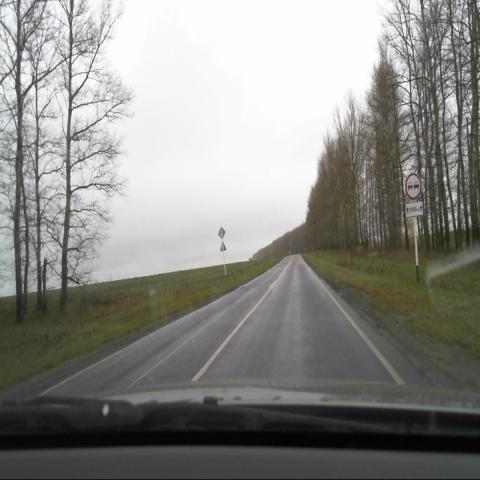3_20: (405, 171, 421, 200)
